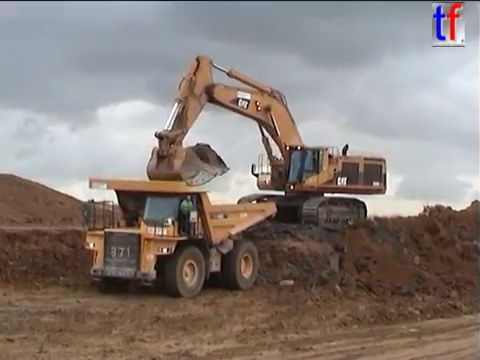excavator: (143, 52, 391, 232)
truck: (417, 202, 443, 221)
worker: (176, 192, 196, 236)
